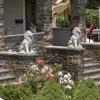Statue: (45, 0, 84, 57)
